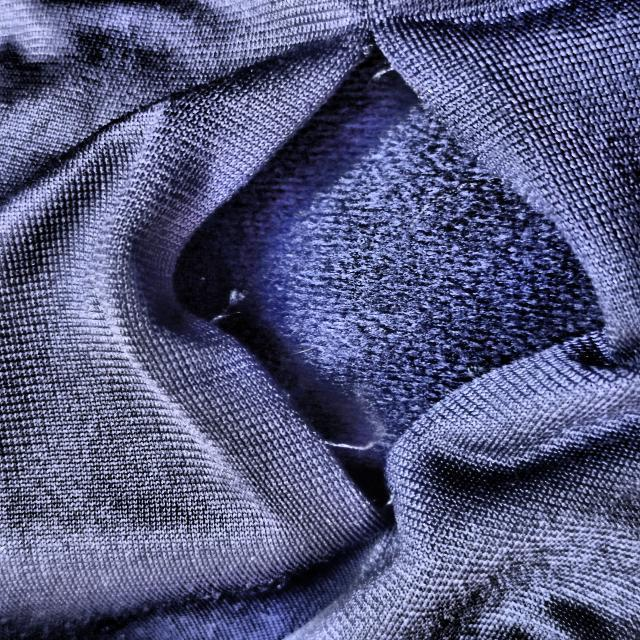cut: (145, 15, 640, 640)
